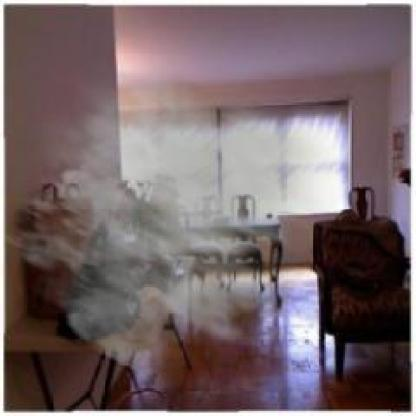Smoke: (1, 55, 361, 390)
